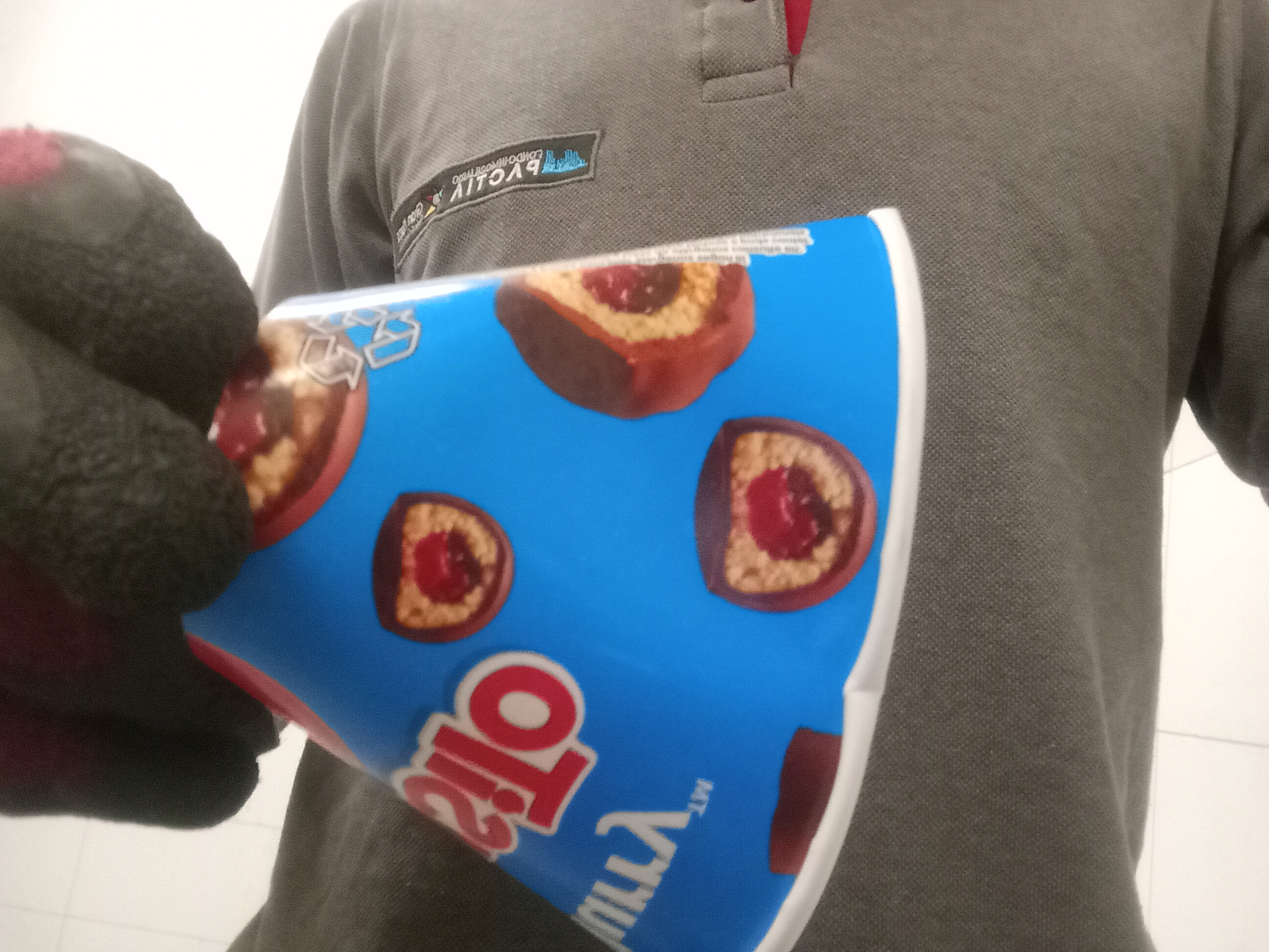Carton: (181, 207, 929, 947)
